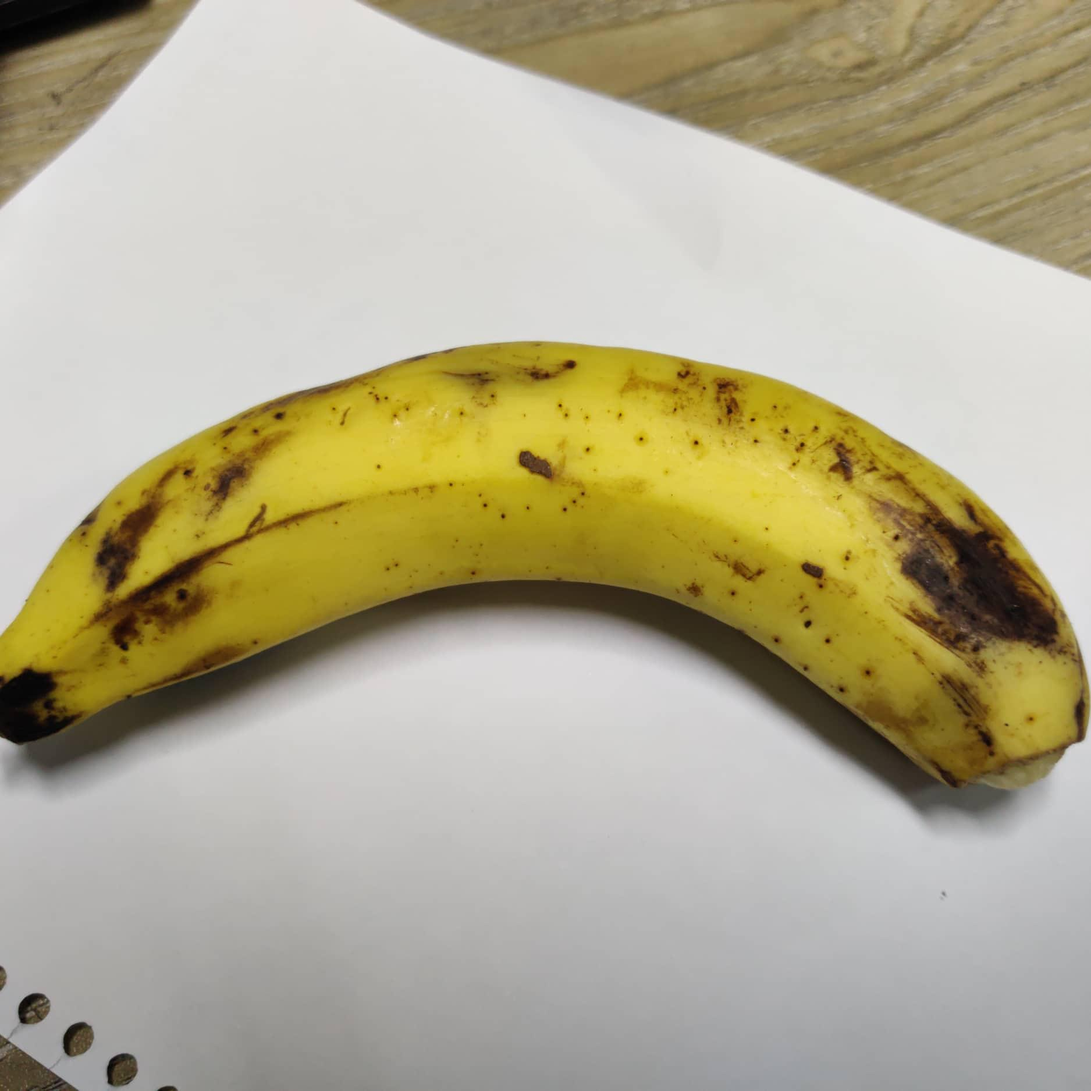Banana Ripe: (29, 322, 1075, 854)
